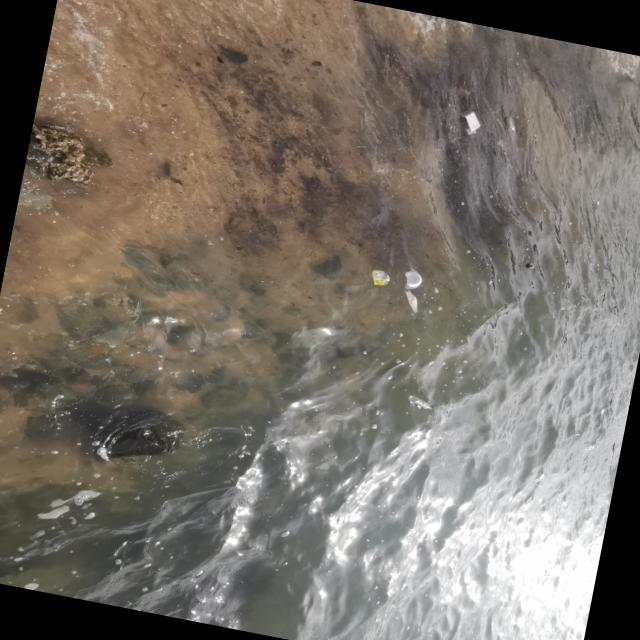foam: (456, 109, 484, 137), (402, 268, 425, 292)
plastic bottle: (407, 396, 435, 412)
